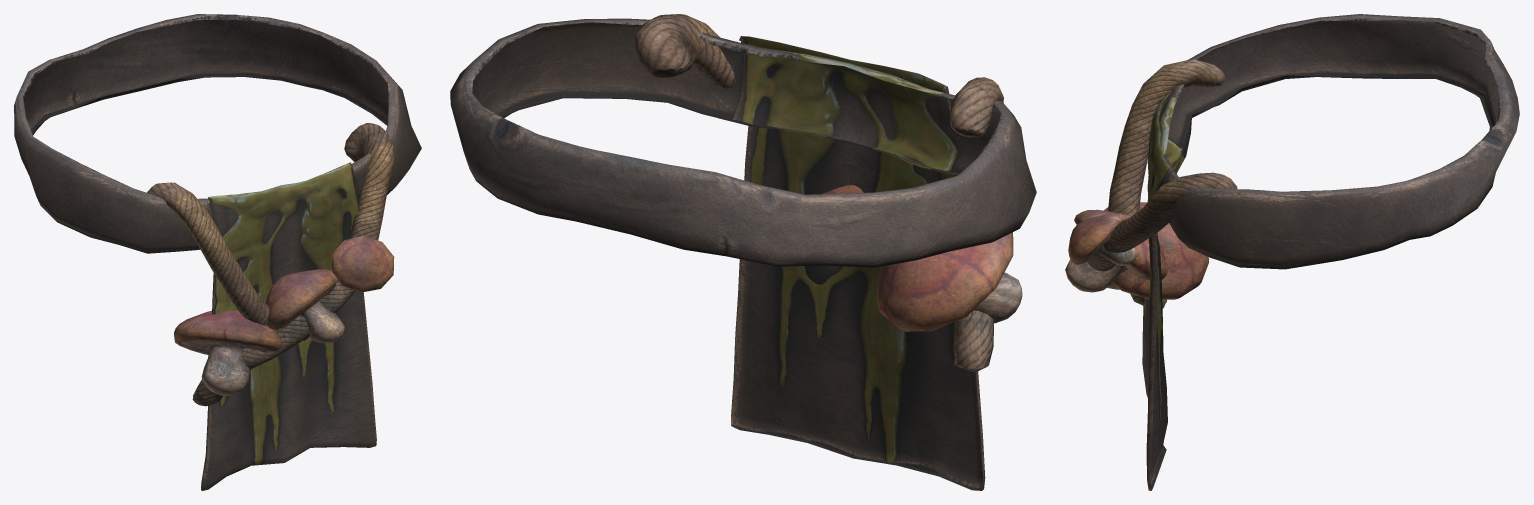
Rendered from sm_yun_mushroom_belt.gltf.
3 renders of one model, left to right at view 1: azimuth 30°, elevation 25°; view 2: azimuth 150°, elevation 25°; view 3: azimuth 270°, elevation 25°, orthographic. The views are drawn at different scales.
Parts seen in each view (by area): view 1: sm_yun_mushroom_belt; view 2: sm_yun_mushroom_belt; view 3: sm_yun_mushroom_belt.
Boxes of the visible parts, <box> form: sm_yun_mushroom_belt: <box>14,14,421,490</box>; sm_yun_mushroom_belt: <box>450,14,1036,490</box>; sm_yun_mushroom_belt: <box>1065,14,1519,490</box>.
Size of the model in its own units: 71.72 by 62.04 by 70.41.
1 material, 1 textured.
